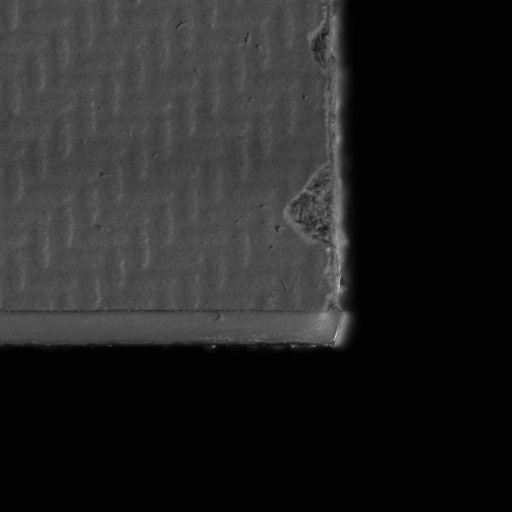bengque: (280, 159, 338, 252), (306, 19, 333, 77)
